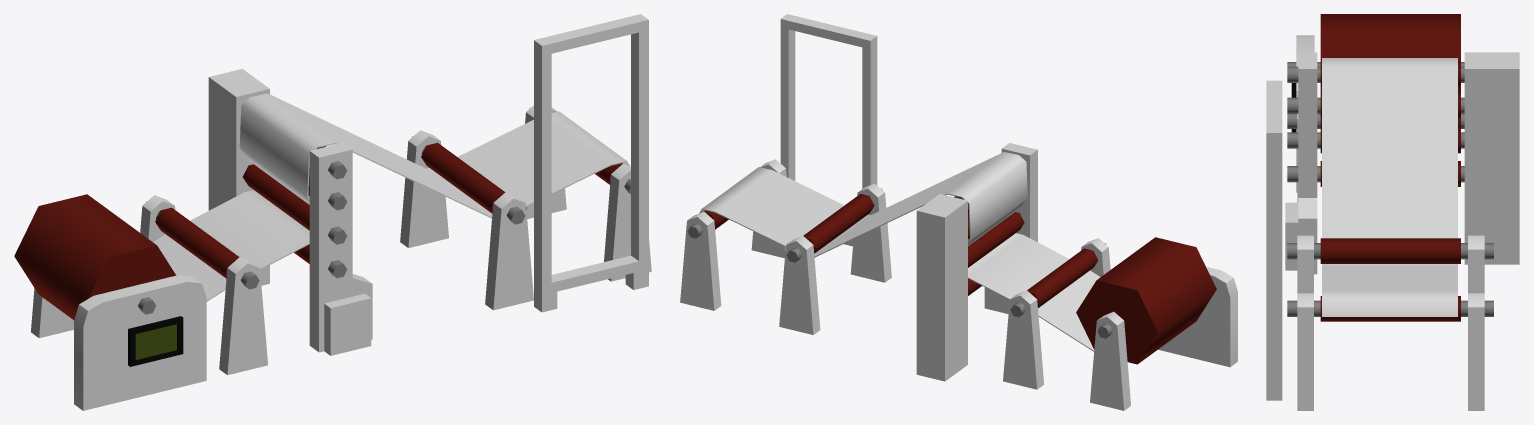
Rendered from Maquina 02.fbx.
3 views of the same model, side by side, from view 1: azimuth 30°, elevation 25°; view 2: azimuth 150°, elevation 25°; view 3: azimuth 270°, elevation 25° (orthographic). The views are drawn at different scales.
Parts seen in each view (by area): view 1: Box020, Box019, Box008, Cylinder002, Box012, Box013, Box016, Box011, Box015, Box014, Cylinder007, Cylinder003 (+5 smaller); view 2: Box020, Cylinder002, Box013, Box019, Box008, Box010, Box009, Box017, Box015, Box016, Box012, Cylinder007 (+4 smaller); view 3: Box020, Box013, Cylinder002, Box019, Cylinder007, Box012, Box017, Box018, Cylinder008, Box015, Box016, Box014 (+6 smaller).
Boxes of the visible parts, left/top/right/bottom form: Box020: left=153, top=93, right=629, bottom=301; Box019: left=534, top=14, right=648, bottom=312; Box008: left=74, top=275, right=206, bottom=410; Cylinder002: left=14, top=194, right=176, bottom=319; Box012: left=309, top=142, right=372, bottom=352; Box013: left=208, top=69, right=269, bottom=285; Box016: left=485, top=192, right=533, bottom=310; Box011: left=219, top=257, right=267, bottom=375; Box015: left=400, top=130, right=448, bottom=247; Box014: left=324, top=293, right=371, bottom=355; Cylinder007: left=412, top=136, right=525, bottom=224; Cylinder003: left=146, top=201, right=259, bottom=289; Box020: left=699, top=152, right=1100, bottom=351; Cylinder002: left=1076, top=237, right=1216, bottom=364; Box013: left=916, top=194, right=967, bottom=381; Box019: left=780, top=14, right=877, bottom=246; Box008: left=1158, top=266, right=1237, bottom=367; Box010: left=1003, top=290, right=1043, bottom=389; Box009: left=1090, top=311, right=1130, bottom=410; Box017: left=680, top=212, right=721, bottom=310; Box015: left=779, top=236, right=820, bottom=334; Box016: left=850, top=183, right=891, bottom=282; Box012: left=984, top=143, right=1037, bottom=314; Cylinder007: left=786, top=188, right=882, bottom=262; Box020: left=1322, top=58, right=1457, bottom=316; Box013: left=1464, top=52, right=1519, bottom=264; Cylinder002: left=1287, top=14, right=1464, bottom=92; Box019: left=1266, top=80, right=1282, bottom=400; Cylinder007: left=1287, top=238, right=1493, bottom=263; Box012: left=1298, top=52, right=1317, bottom=274; Box017: left=1468, top=293, right=1484, bottom=410; Box018: left=1297, top=293, right=1313, bottom=410; Cylinder008: left=1287, top=296, right=1493, bottom=321; Box015: left=1468, top=235, right=1484, bottom=293; Box016: left=1297, top=235, right=1313, bottom=293; Box014: left=1285, top=202, right=1298, bottom=270.
Size of the model in its own units: 508 by 228 by 195.
